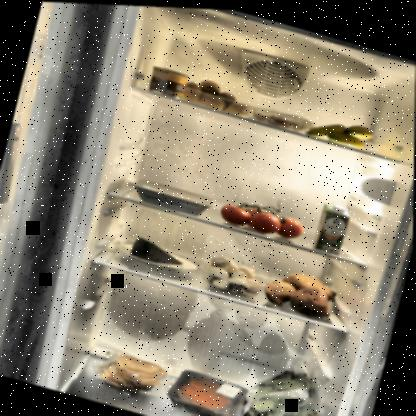banana: (305, 108, 375, 150)
beef: (163, 360, 255, 415)
cheese: (128, 233, 191, 270)
corn: (146, 63, 191, 101)
heavy_cream: (313, 197, 353, 254)
mushrooms: (198, 250, 268, 300)
potato: (177, 69, 261, 118)
shrimp: (252, 107, 322, 136)
spinach: (231, 353, 329, 415)
sweet_potato: (262, 261, 343, 321)
tomato: (215, 183, 312, 243)
